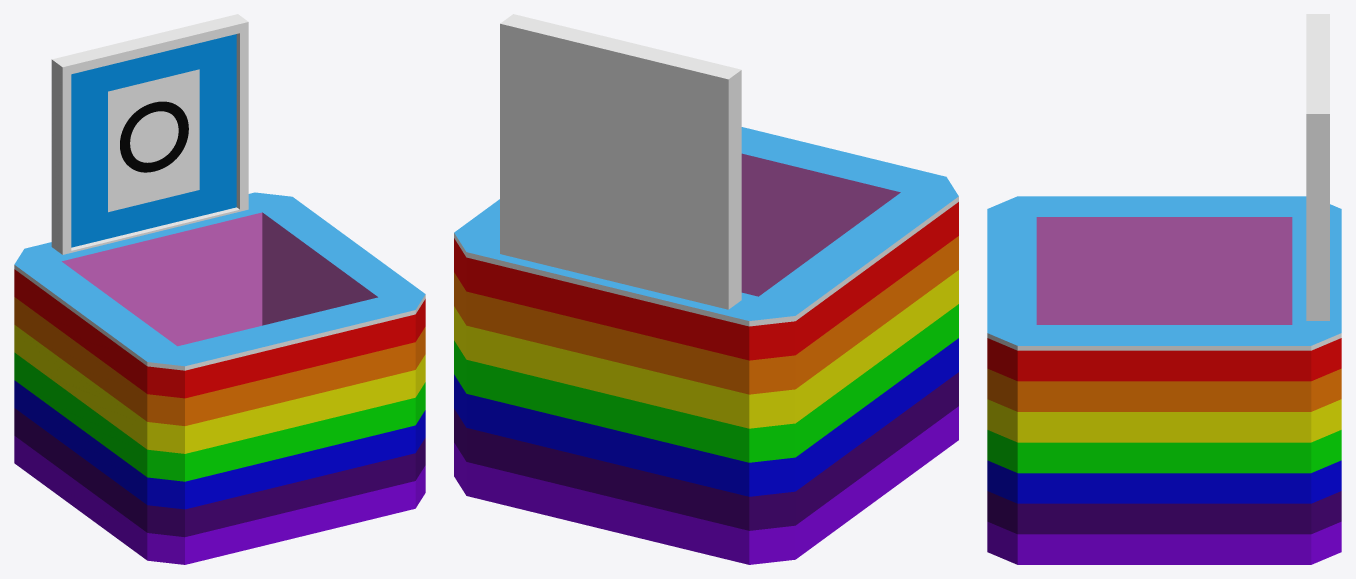
3 views of the same model, side by side, from view 1: azimuth 30°, elevation 25°; view 2: azimuth 150°, elevation 25°; view 3: azimuth 270°, elevation 25° (orthographic). The views are drawn at different scales.
Parts seen in each view (by area): view 1: Cube.001, Text; view 2: Cube.001; view 3: Cube.001.
Boxes of the visible parts, x1,y1,x2,y2 form: Cube.001: (14,14,425,564); Text: (120,101,188,172); Cube.001: (454,14,958,564); Cube.001: (987,14,1341,564).
Size of the model in its own units: 383 by 508 by 383.
